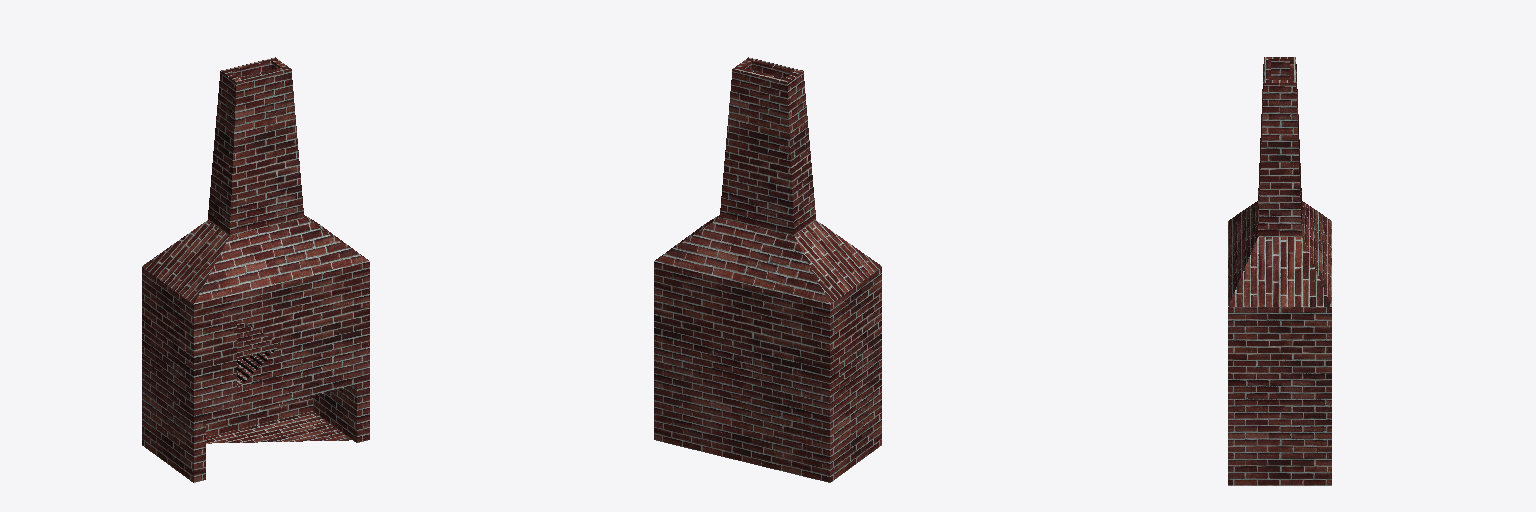
The picture shows the model from 3 angles: view 1: azimuth 30°, elevation 25°; view 2: azimuth 150°, elevation 25°; view 3: azimuth 270°, elevation 25°; orthographic projection.
Visible parts, largest first — view 1: bbq01; view 2: bbq01; view 3: bbq01.
Part boxes in pixels (x1,y1,x2,y2): bbq01: (142, 57, 369, 482); bbq01: (654, 57, 881, 482); bbq01: (1228, 57, 1331, 485).
Bounding box in the file's own units: 177 × 358 × 90.49.
Materials: 2 (1 with a texture image).